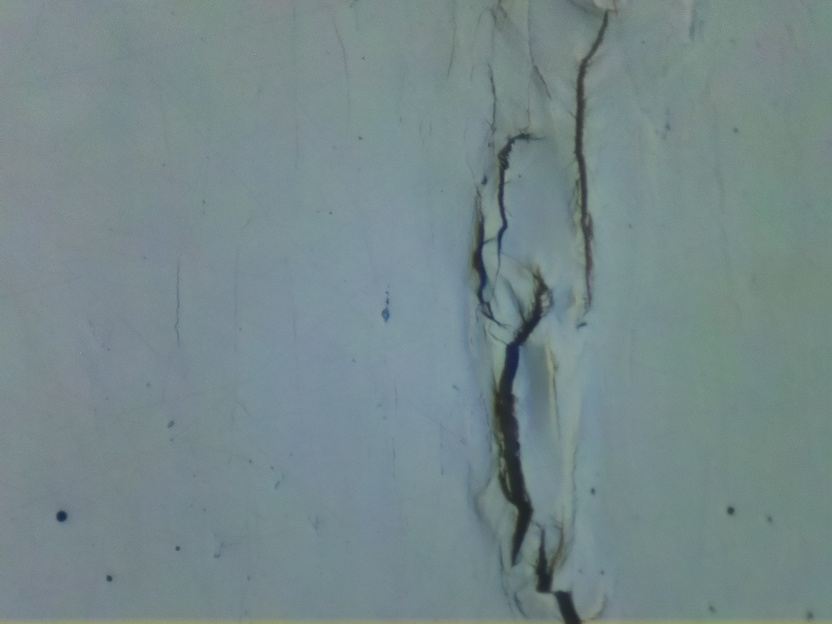crack: (497, 287, 548, 571), (575, 11, 609, 306), (496, 133, 542, 260), (531, 529, 582, 624), (465, 216, 495, 320)
